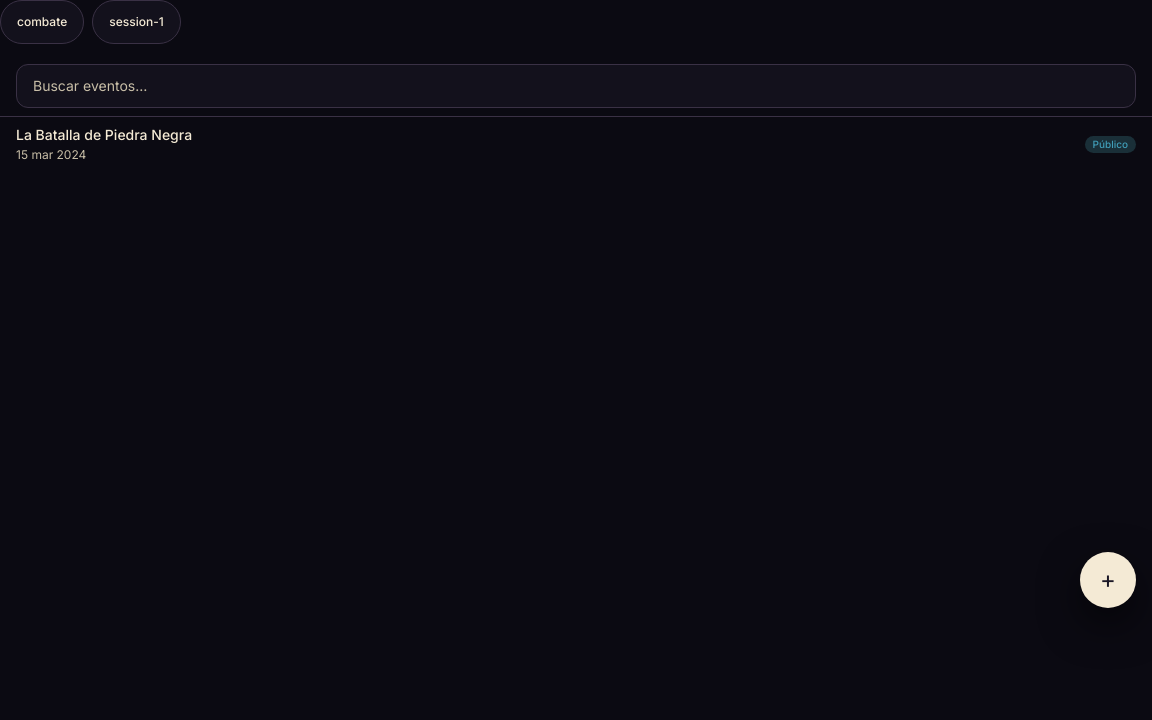
Test: EventClientWrapper — DM view (effectiveView="dm") › (a) delete button is present in detail sheet for DM view
The width and height of the screenshot is (1152, 720).
Click the button "La Batalla de Piedra Negra 15 mar 2024 Público" at (104, 134), box [0,117,1151,171]
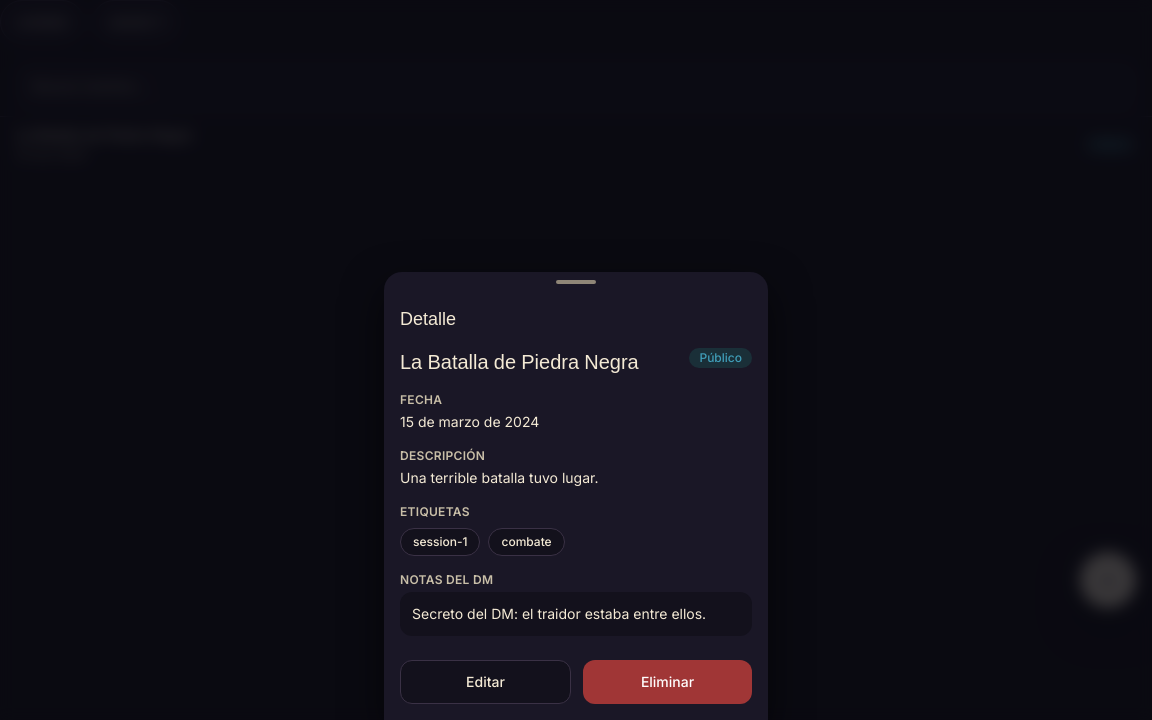
Now the button "Eliminar" is shown, box [583,660,752,704]
